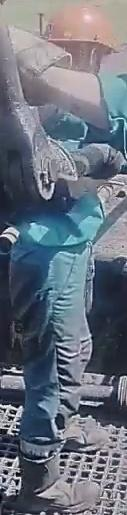gloves: (3, 23, 76, 110)
helmet: (44, 4, 119, 54)
